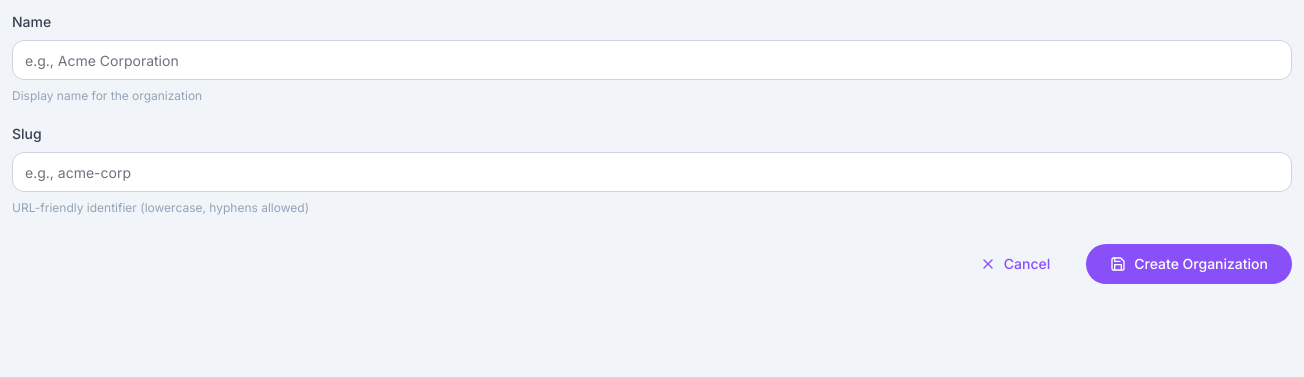
OrganizationForm › Create Mode › shows error on API failure
In the field with placeholder "e.g., Acme Corporation": [652, 60] box [12,40,1292,80], type "New Organization"
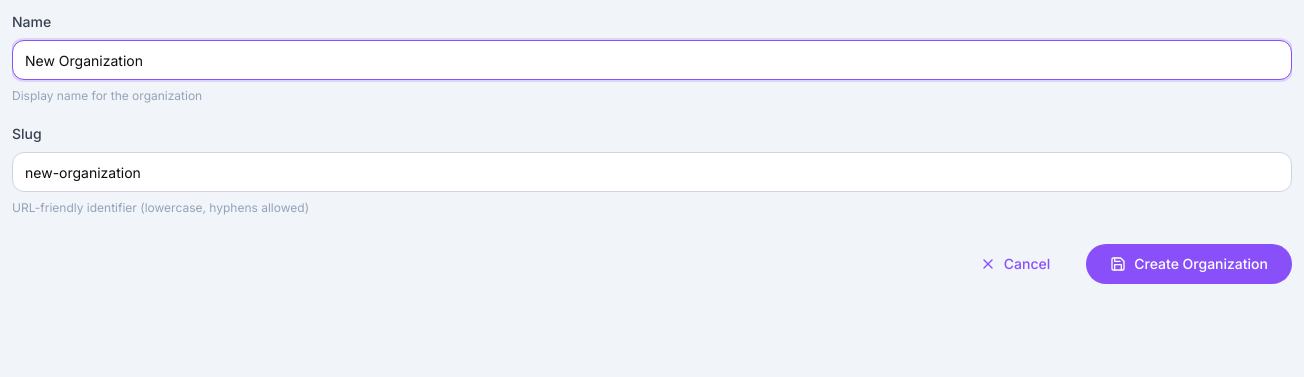
Replace the text in the field with placeholder "e.g., acme-corp" with "existing-slug": [652, 172] box [12,152,1292,192]
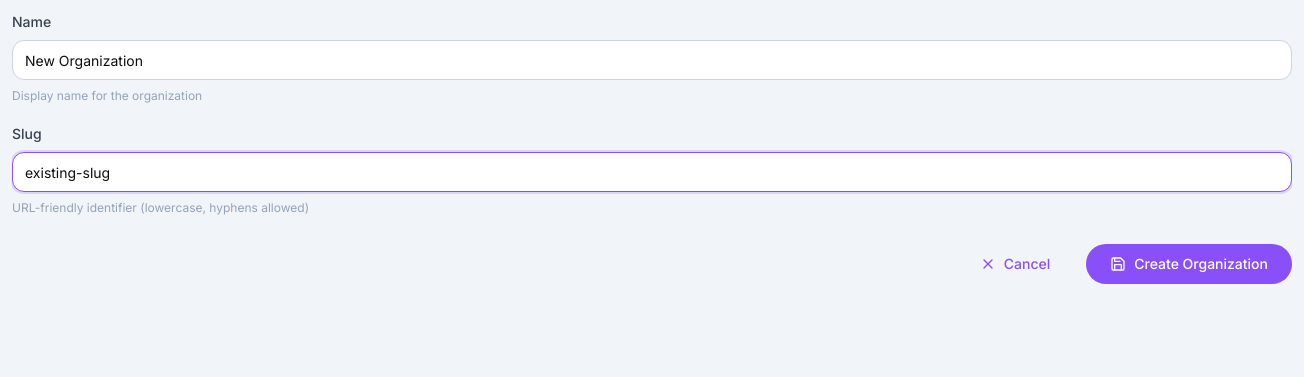
Click the button "Create Organization": [1189, 264] box [1086,244,1292,284]
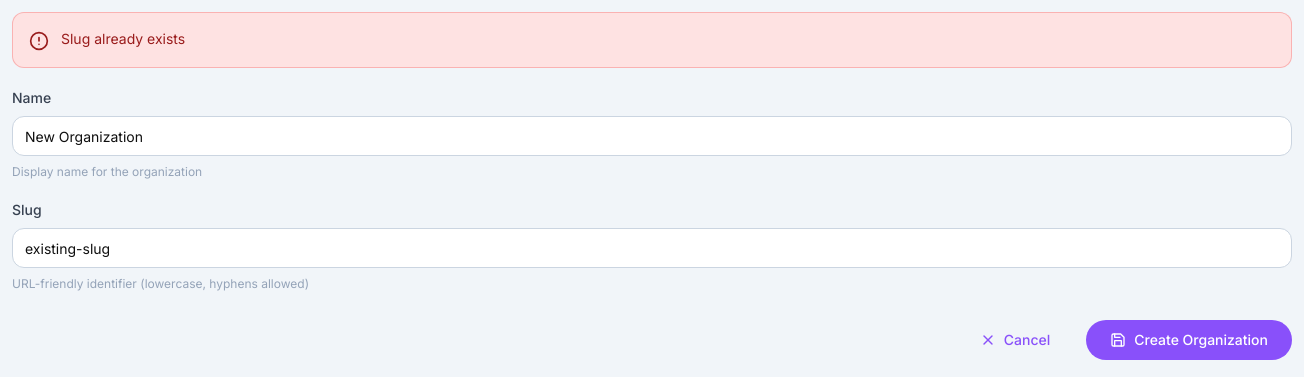
Result: the text "Slug already exists" is shown at [61,29,185,49]
